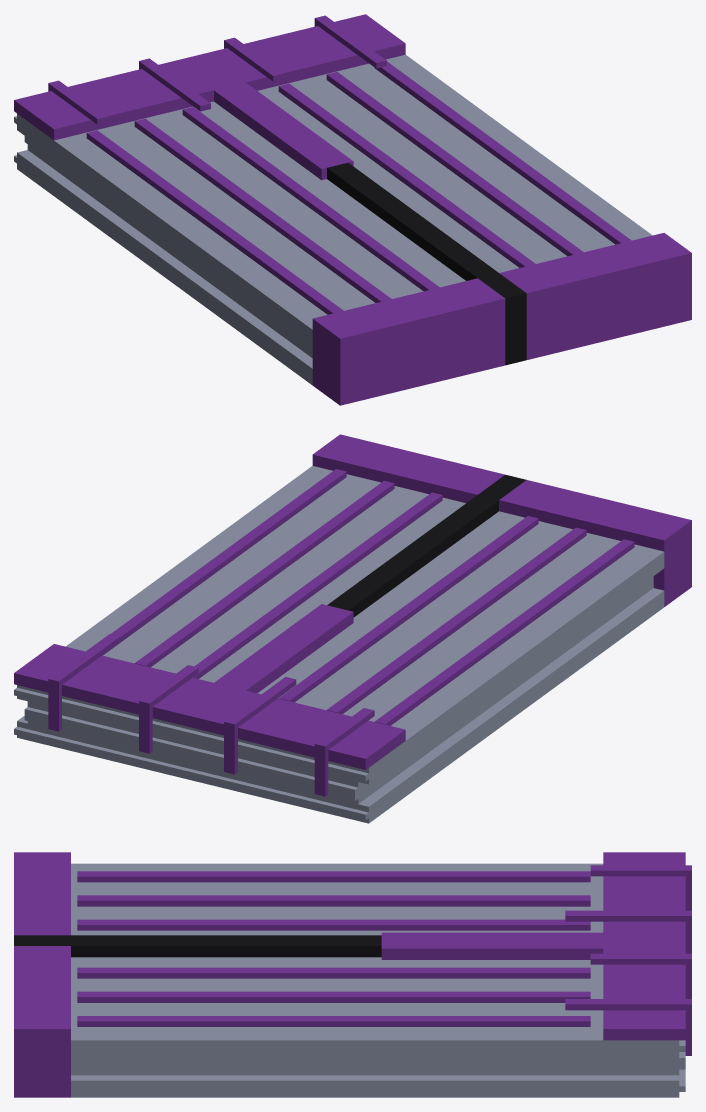
The model's file is gambeson_pants_parabolan.glb.
3 views of the same model, one above another, from view 1: azimuth 30°, elevation 25°; view 2: azimuth 150°, elevation 25°; view 3: azimuth 270°, elevation 25° (orthographic). The views are drawn at different scales.
Parts seen in each view (by area): view 1: gambeson_pants_parabolan:compound; view 2: gambeson_pants_parabolan:compound; view 3: gambeson_pants_parabolan:compound.
Part boxes in pixels (bbox=[...]): gambeson_pants_parabolan:compound: bbox=[14, 14, 691, 405]; gambeson_pants_parabolan:compound: bbox=[14, 434, 691, 823]; gambeson_pants_parabolan:compound: bbox=[14, 852, 691, 1097].
Size of the model in its own units: 0.264 by 0.052 by 0.428.
